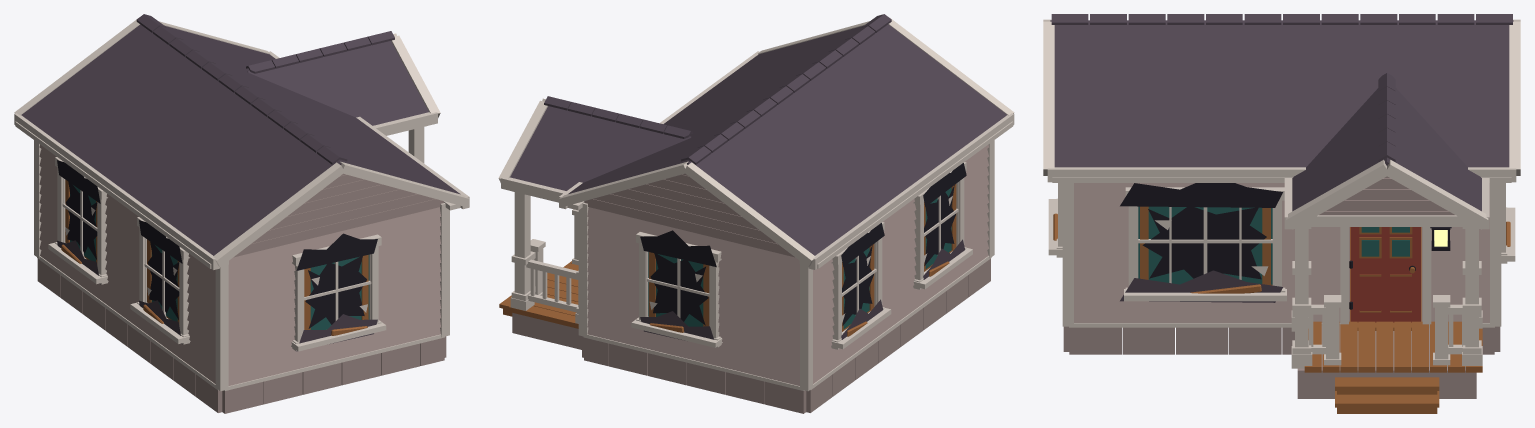
3 views of the same model, side by side, from view 1: azimuth 30°, elevation 25°; view 2: azimuth 150°, elevation 25°; view 3: azimuth 270°, elevation 25° (orthographic). The views are drawn at different scales.
Parts seen in each view (by area): view 1: roof_pal_picketWhite, body_pal_picketWhite, root_pal_picketWhite; view 2: roof_pal_picketWhite, body_pal_picketWhite, root_pal_picketWhite; view 3: roof_pal_picketWhite, body_pal_picketWhite, root_pal_picketWhite, door_front_pal_picketWhite.
Boxes of the visible parts, left/top/right/bottom form: roof_pal_picketWhite: left=14, top=14, right=469, bottom=270; body_pal_picketWhite: left=34, top=127, right=449, bottom=413; root_pal_picketWhite: left=48, top=157, right=386, bottom=351; roof_pal_picketWhite: left=498, top=14, right=1014, bottom=269; body_pal_picketWhite: left=499, top=140, right=994, bottom=413; root_pal_picketWhite: left=631, top=162, right=972, bottom=349; roof_pal_picketWhite: left=1043, top=14, right=1520, bottom=229; body_pal_picketWhite: left=1062, top=183, right=1501, bottom=413; root_pal_picketWhite: left=1048, top=183, right=1515, bottom=302; door_front_pal_picketWhite: left=1349, top=227, right=1420, bottom=322.
Size of the model in its own units: 7.14 by 4.56 by 7.17.
